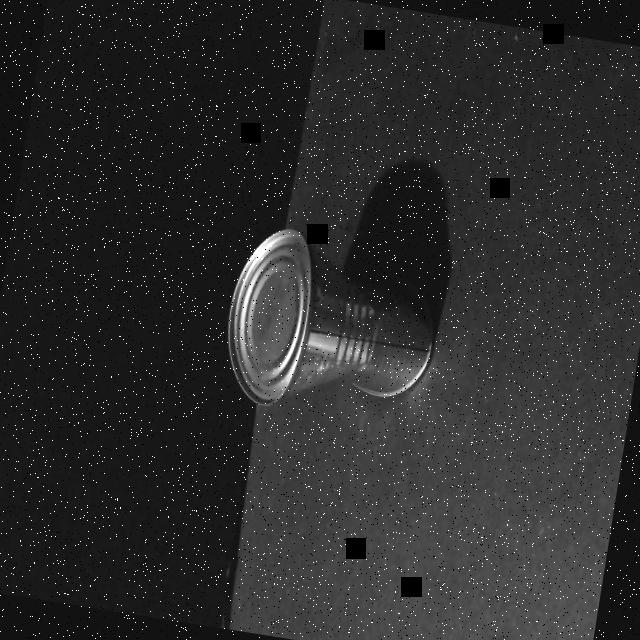can: (209, 216, 451, 438)
